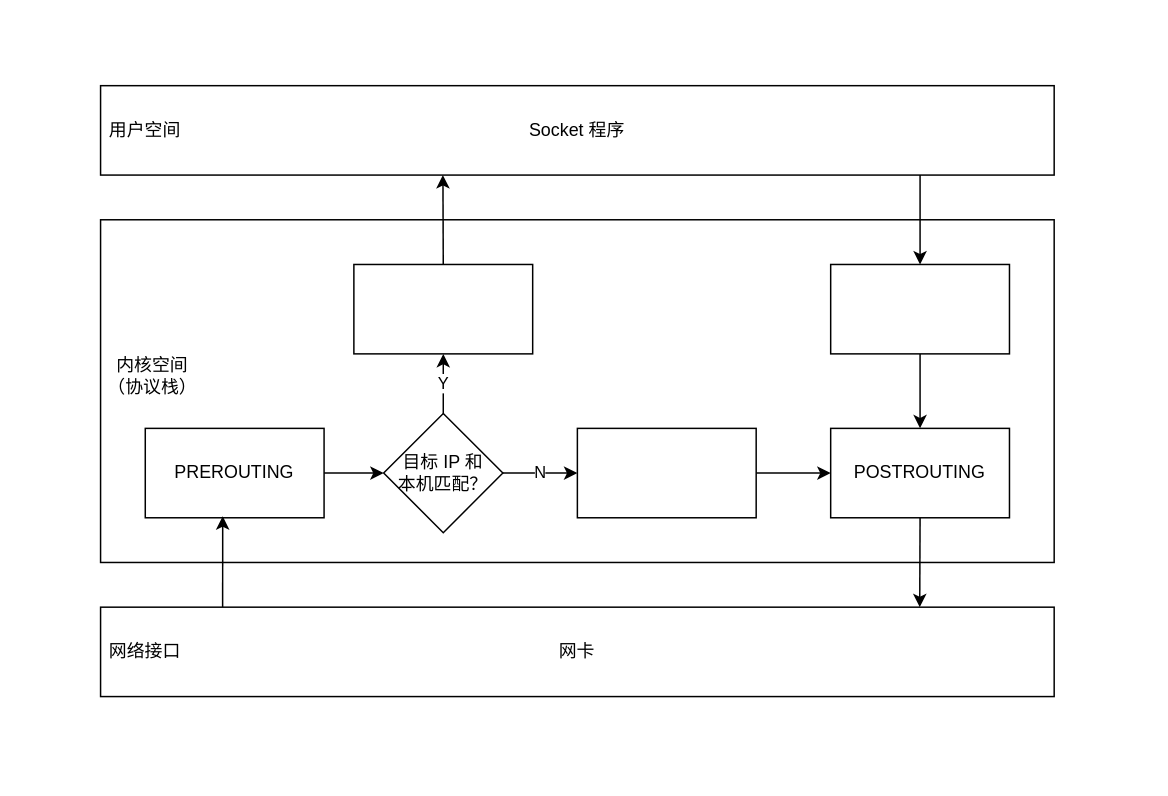
This 1168x796 diagram has some shape labels left out. Here are the shapes that lost their labels. From the top down, the centre of each, then its label:
(442,308): INPUT
(919,308): OUTPUT
(666,472): FORWARD
